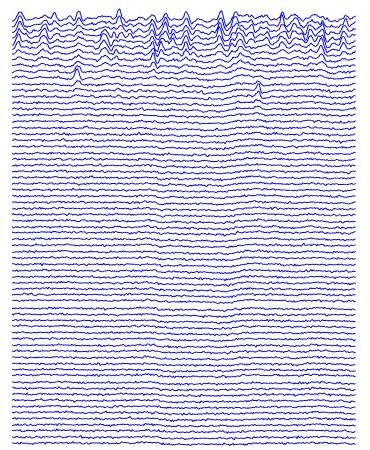defect: (96, 9, 132, 58), (151, 11, 178, 71), (216, 6, 245, 61), (32, 12, 63, 55), (275, 11, 300, 52), (310, 14, 328, 67), (13, 10, 30, 54), (337, 13, 350, 62), (185, 13, 197, 60), (70, 9, 84, 43), (69, 58, 86, 86), (253, 75, 266, 104)
